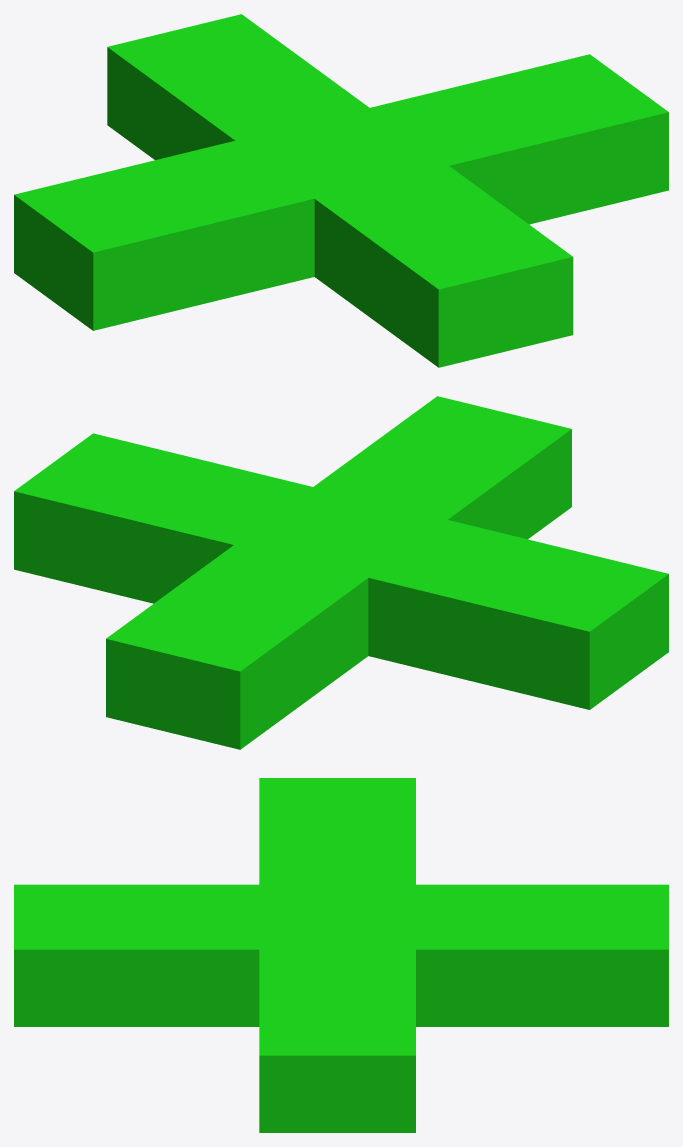
Rendered from plus.glb.
3 views of the same model, one above another, from view 1: azimuth 30°, elevation 25°; view 2: azimuth 150°, elevation 25°; view 3: azimuth 270°, elevation 25° (orthographic).
Parts seen in each view (by area): view 1: Cube; view 2: Cube; view 3: Cube.
Part boxes in pixels (box(x1,y1,x2,y2)): Cube: box(14, 14, 668, 367); Cube: box(14, 396, 668, 749); Cube: box(14, 778, 668, 1132).
Size of the model in its own units: 0.0201 by 0.00261 by 0.02.
